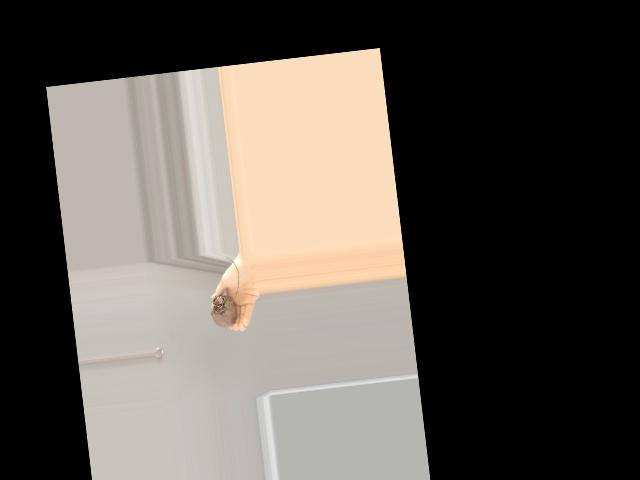beet: (205, 257, 246, 337)
